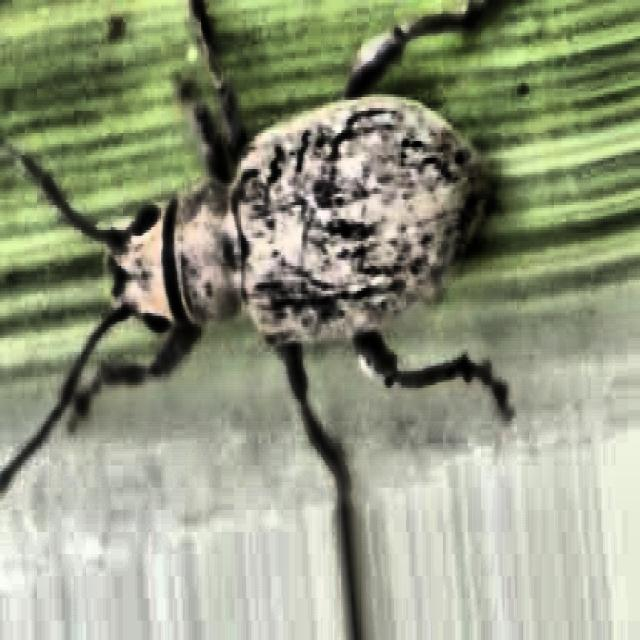Stink bug: (35, 7, 522, 514)
